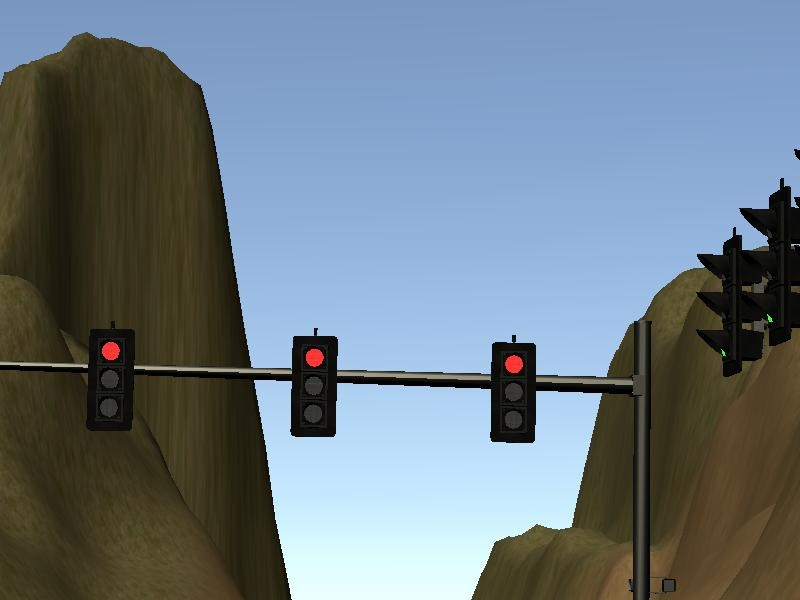red: (285, 327, 341, 440), (84, 323, 139, 436), (488, 335, 540, 448)
